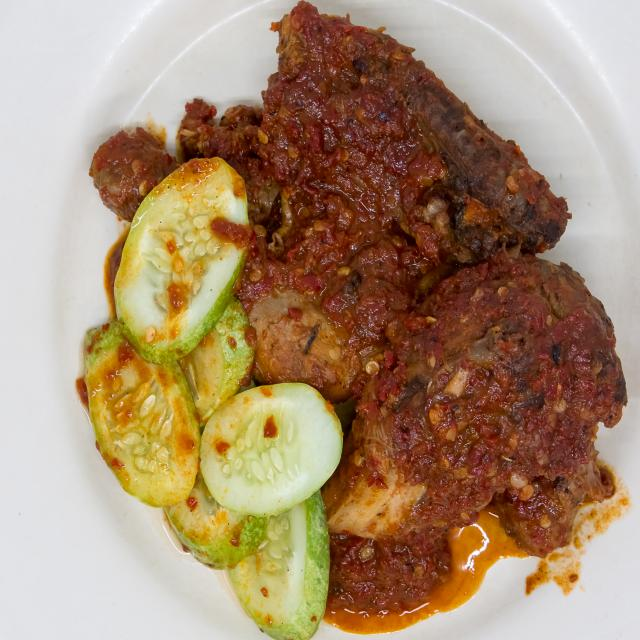Ayam-Bumbu-Rujak: (77, 2, 628, 614)
